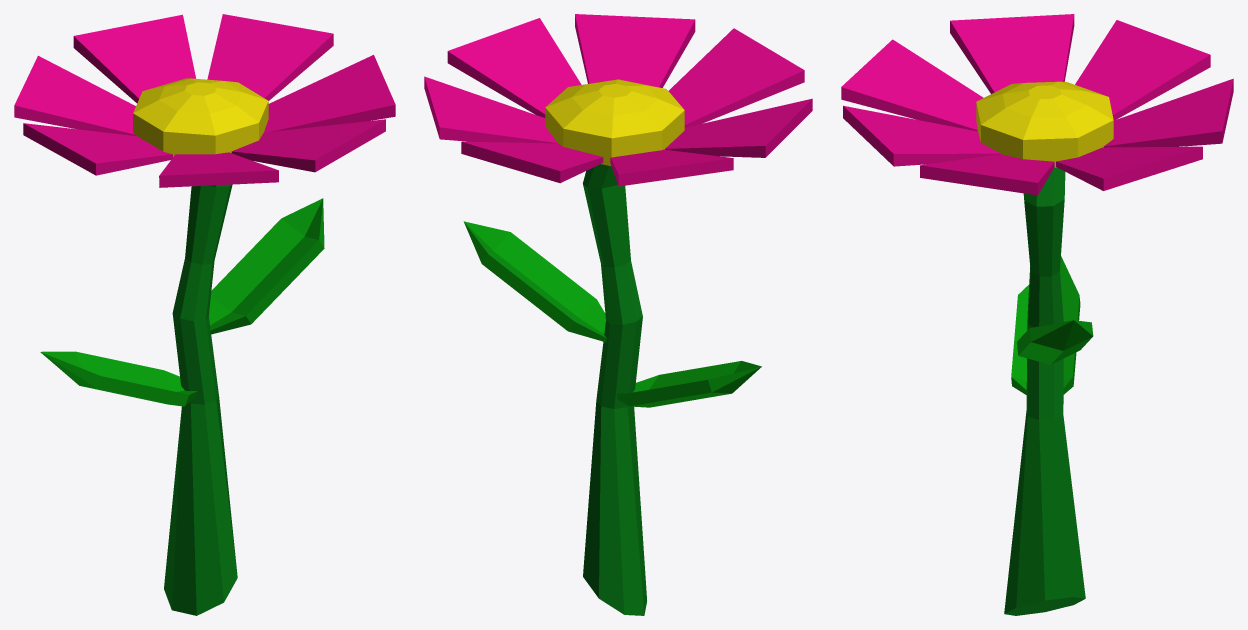
File: kwiat2.fbx
The picture shows the model from 3 angles, left to right: view 1: azimuth 30°, elevation 25°; view 2: azimuth 150°, elevation 25°; view 3: azimuth 270°, elevation 25°; orthographic projection. The views are drawn at different scales.
Parts seen in each view (by area): view 1: Circle, Cube.008, Cube.003, Cube.002, Cube.006, Cube.001, Cube.005, Cube.007, Cube, Cube.004; view 2: Circle, Cube.006, Cube.004, Cube.005, Cube.008, Cube.003, Cube, Cube.007, Cube.002, Cube.001; view 3: Circle, Cube, Cube.001, Cube.004, Cube.002, Cube.005, Cube.003, Cube.006, Cube.007, Cube.008.
Boxes of the visible parts, x1,y1,x2,y2 form: Circle: [133, 78, 268, 615]; Cube.008: [209, 198, 324, 334]; Cube.003: [207, 14, 333, 100]; Cube.002: [73, 14, 195, 103]; Cube.006: [264, 55, 395, 132]; Cube.001: [14, 55, 135, 135]; Cube.005: [231, 119, 385, 172]; Cube.007: [40, 351, 197, 406]; Cube: [23, 123, 172, 175]; Cube.004: [159, 152, 278, 187]; Circle: [545, 79, 684, 615]; Cube.006: [447, 18, 581, 117]; Cube.004: [668, 28, 804, 127]; Cube.005: [575, 14, 695, 87]; Cube.008: [463, 221, 606, 342]; Cube.003: [424, 76, 557, 143]; Cube: [665, 98, 812, 157]; Cube.007: [617, 361, 761, 407]; Cube.002: [461, 141, 603, 183]; Cube.001: [610, 149, 733, 186]; Circle: [976, 81, 1113, 615]; Cube: [950, 14, 1074, 93]; Cube.001: [1075, 20, 1210, 120]; Cube.004: [841, 39, 983, 131]; Cube.002: [1103, 78, 1233, 147]; Cube.005: [843, 105, 1001, 166]; Cube.003: [1056, 146, 1202, 190]; Cube.006: [920, 154, 1054, 195]; Cube.007: [1011, 256, 1080, 394]; Cube.008: [1017, 320, 1093, 364].
Size of the model in its own units: 80.02 by 118 by 78.55.
